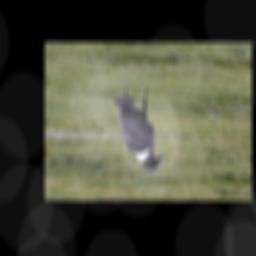Crow: (112, 88, 163, 172)
